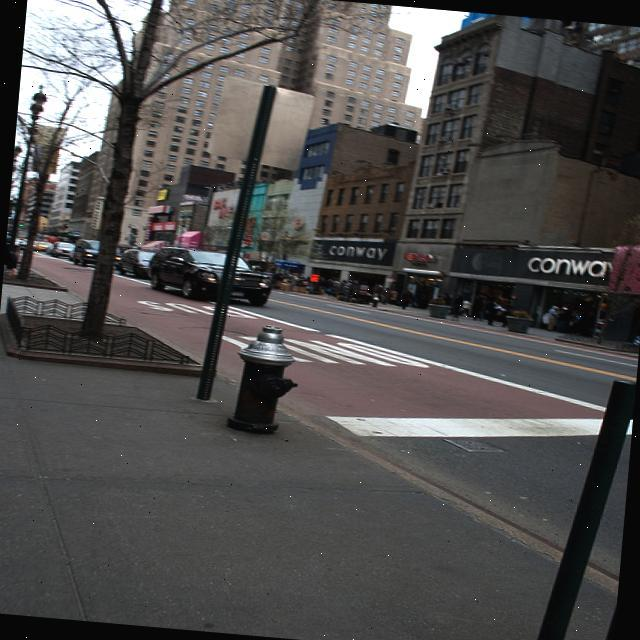fire_hydrant: (226, 319, 304, 440), (371, 295, 378, 306)
